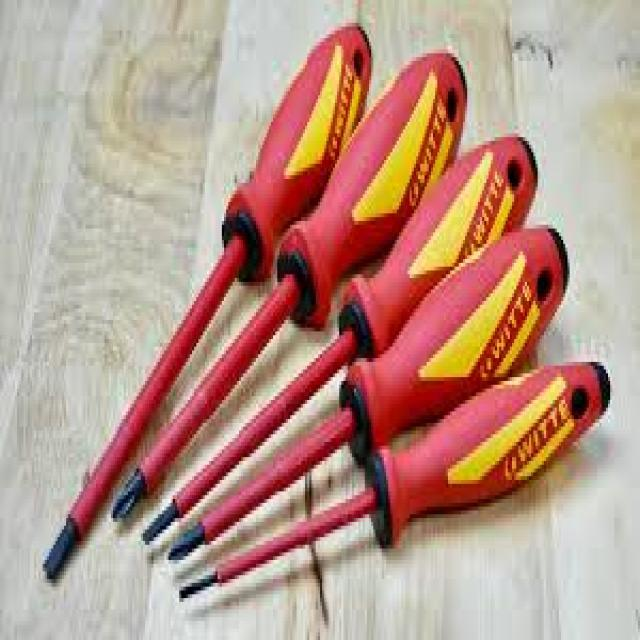screwdriver: (39, 15, 377, 587), (110, 46, 470, 534), (138, 132, 540, 550), (160, 217, 572, 572), (175, 354, 616, 606)
